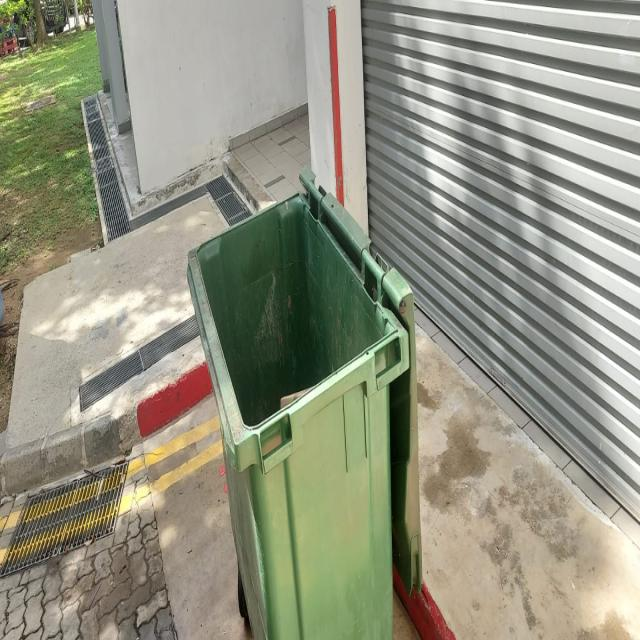bin_empty: (190, 170, 408, 640)
